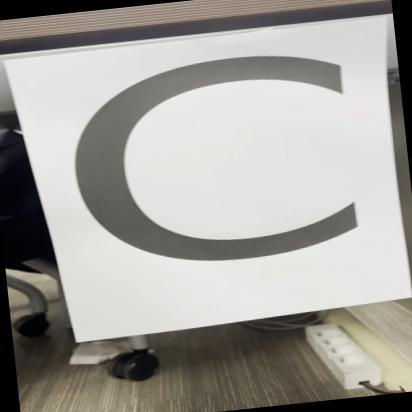seat: (4, 18, 412, 350)
